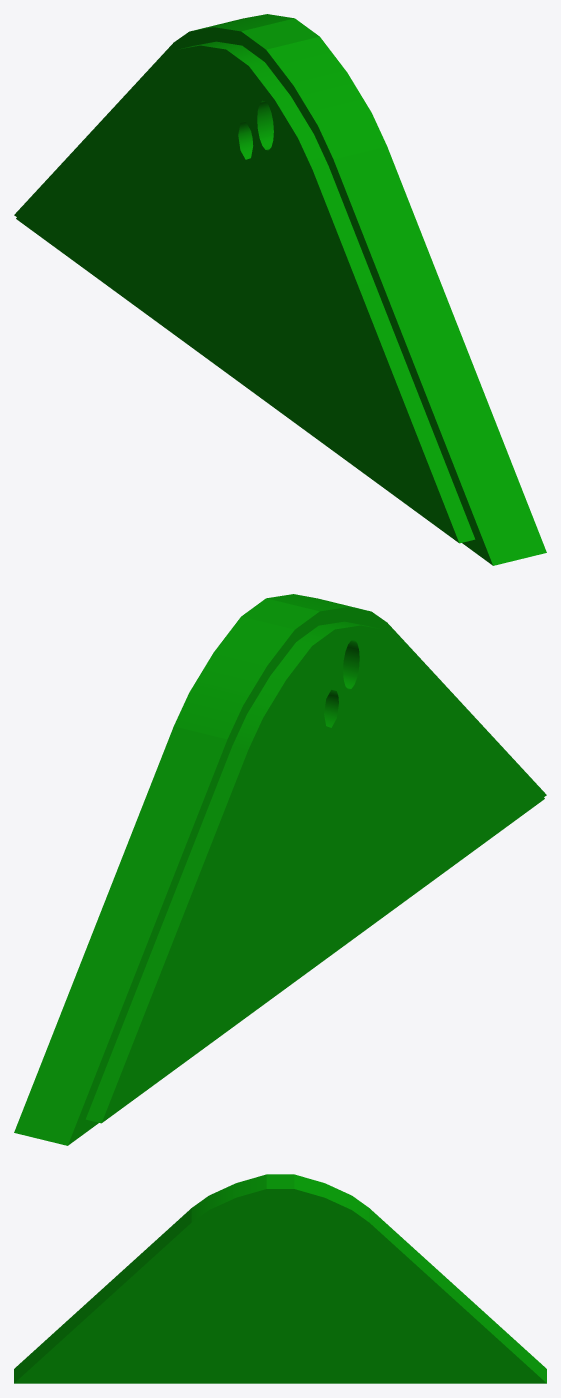
File: bitBush.fbx
3 views of the same model, one above another, from view 1: azimuth 30°, elevation 25°; view 2: azimuth 150°, elevation 25°; view 3: azimuth 270°, elevation 25° (orthographic). The views are drawn at different scales.
Visible parts, largest first — view 1: bitBush; view 2: bitBush; view 3: bitBush.
Part boxes in pixels (bbox=[...]): bitBush: bbox=[14, 14, 546, 565]; bitBush: bbox=[14, 594, 546, 1145]; bitBush: bbox=[14, 1174, 546, 1383].
Bounding box in the file's own units: 0.4098 × 1.96 × 4.88.
